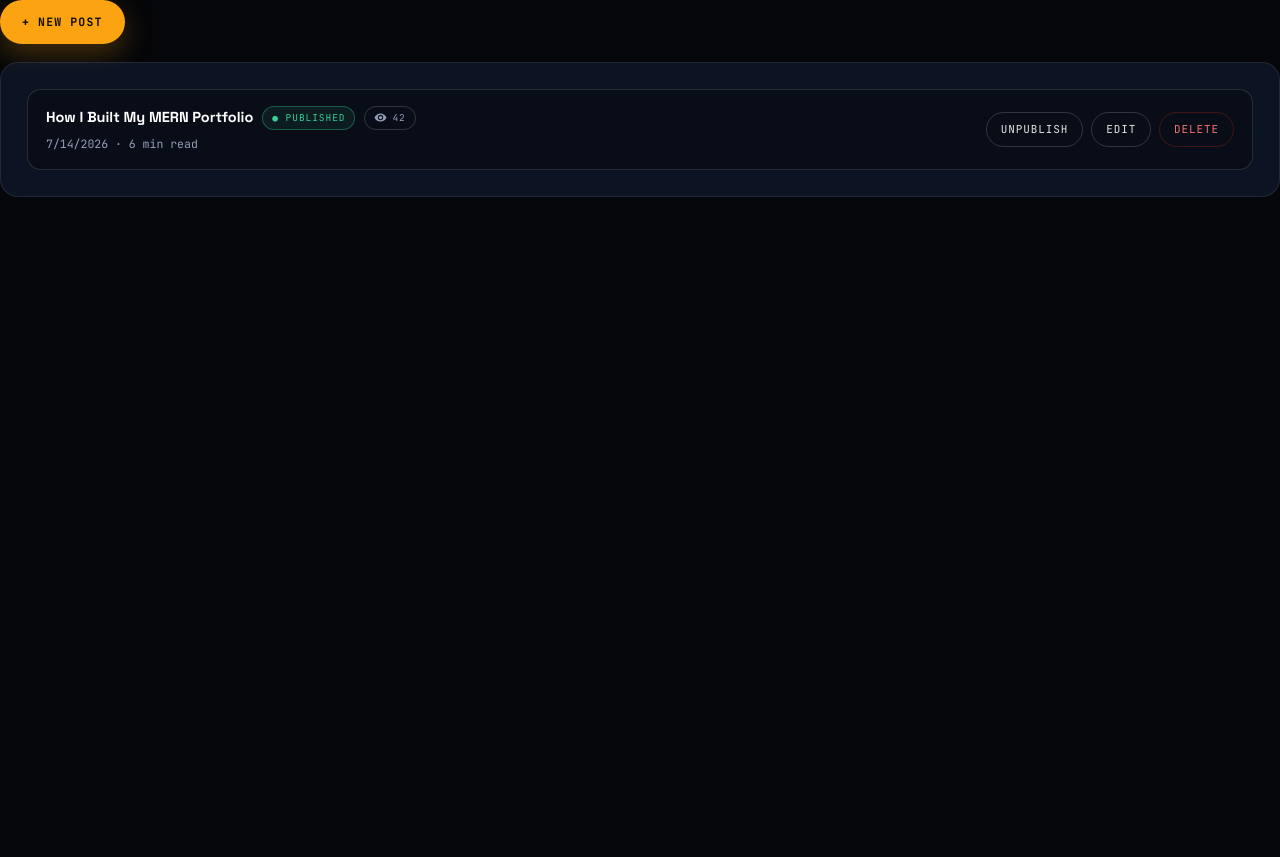
Scenario: AdminBlogPanel — Edit opens the post’s real body (the PF-97 bug) › fills the editor with the post’s sections
This screenshot has width=1280, height=857.
Click the button "EDIT".
click(1121, 130)  # box top-left (1091, 112), bottom-right (1151, 148)
(page scrolled)
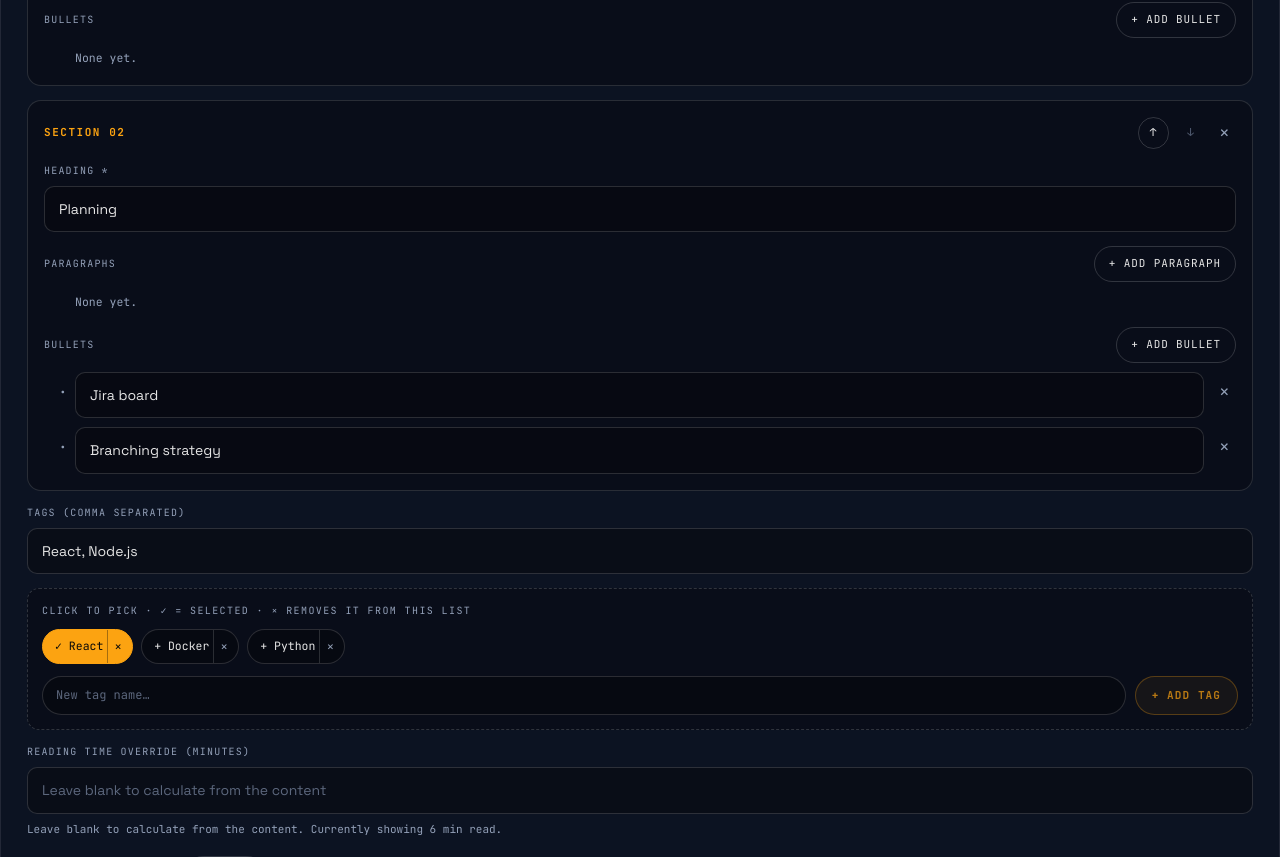
Expected: the field showing "Planning" is shown, top-left (44, 186), bottom-right (1236, 232)
Expected: the field showing "Jira board" is shown, top-left (75, 372), bottom-right (1204, 418)
Expected: the field showing "Branching strategy" is shown, top-left (75, 427), bottom-right (1204, 474)
